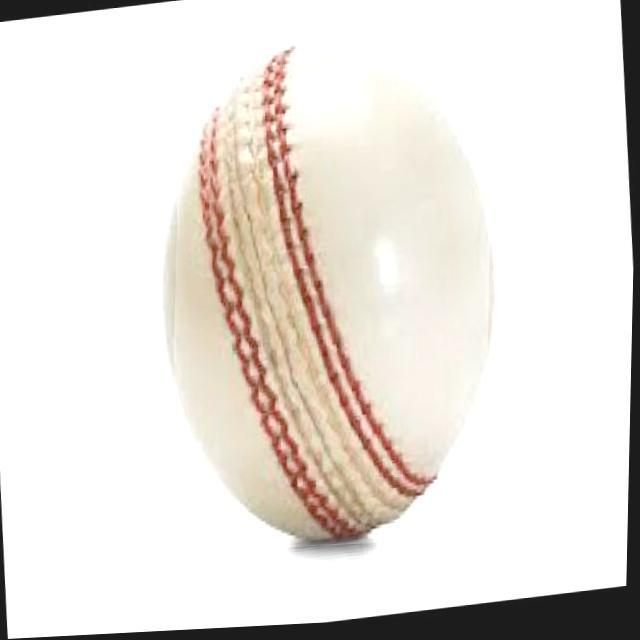-: (172, 42, 495, 556)
